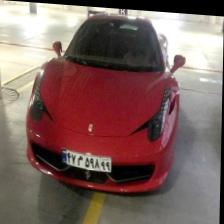plate: (63, 148, 112, 171)
